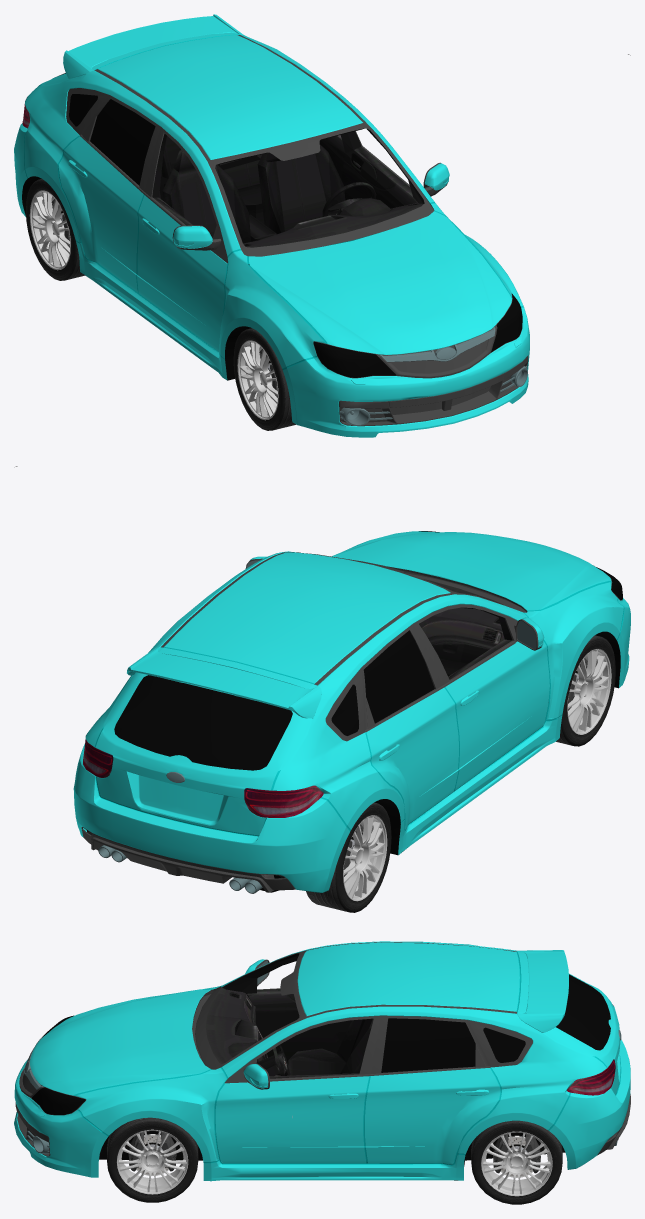
The model's file is 轎車_1500kg_60cm重心高.fbx.
3 renders of one model, top to bottom at view 1: azimuth 30°, elevation 25°; view 2: azimuth 150°, elevation 25°; view 3: azimuth 270°, elevation 25°, orthographic. The views are drawn at different scales.
Parts seen in each view (by area): view 1: BodyMain, Interior, WindowFrame, Bumpers1, WindowsGlass, lightGlass, Bumpers2, Tire_3, Metal, Rim_3, Rim_2, Seams (+5 smaller); view 2: BodyMain, WindowsGlass, WindowFrame, Interior, Bumpers1, Tire_2, Rim_2, Seams, Rim_3, RearLightRight, Tire_3, Chassis (+4 smaller); view 3: BodyMain, Interior, WindowsGlass, WindowFrame, Tire, Tire_1, Seams, Rim_1, Rim, Ring_1, Ring, lightGlass (+4 smaller).
Boxes of the visible parts, <box> form: BodyMain: <box>14,14,529,437</box>; Interior: <box>97,128,424,247</box>; WindowFrame: <box>66,35,521,378</box>; Bumpers1: <box>339,325,528,426</box>; WindowsGlass: <box>57,73,155,185</box>; lightGlass: <box>313,294,522,377</box>; Bumpers2: <box>339,340,512,422</box>; Tire_3: <box>233,328,295,430</box>; Metal: <box>340,326,527,426</box>; Rim_3: <box>239,342,277,417</box>; Rim_2: <box>32,192,70,267</box>; Seams: <box>24,34,523,369</box>; BodyMain: <box>73,531,630,892</box>; WindowsGlass: <box>114,630,434,770</box>; WindowFrame: <box>161,552,622,741</box>; Interior: <box>109,552,512,810</box>; Bumpers1: <box>81,566,594,892</box>; Tire_2: <box>306,802,391,912</box>; Rim_2: <box>343,816,384,898</box>; Seams: <box>94,540,624,836</box>; Rim_3: <box>568,650,608,731</box>; RearLightRight: <box>244,785,323,817</box>; Tire_3: <box>556,635,615,746</box>; Chassis: <box>86,631,620,892</box>; BodyMain: <box>14,941,630,1181</box>; Interior: <box>205,953,597,1078</box>; WindowsGlass: <box>381,974,610,1072</box>; WindowFrame: <box>31,942,532,1115</box>; Tire: <box>107,1117,198,1202</box>; Tire_1: <box>471,1120,562,1204</box>; Seams: <box>74,951,621,1165</box>; Rim_1: <box>482,1133,551,1194</box>; Rim: <box>118,1131,186,1192</box>; Ring_1: <box>481,1131,552,1196</box>; Ring: <box>116,1129,188,1194</box>; lightGlass: <box>31,1015,85,1114</box>.
Bounding box in the file's own units: 342 × 146 × 441.
Materials: 14 (4 with a texture image).
